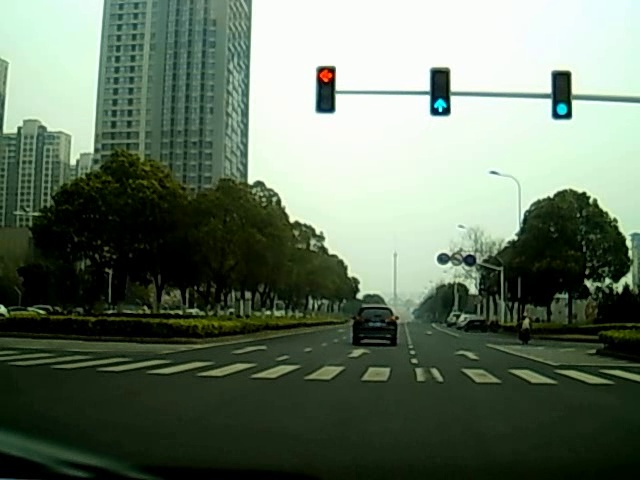Traffic_Light_go: (553, 72, 573, 119), (430, 73, 448, 113)
Traffic_Light_stop: (318, 70, 334, 97)
